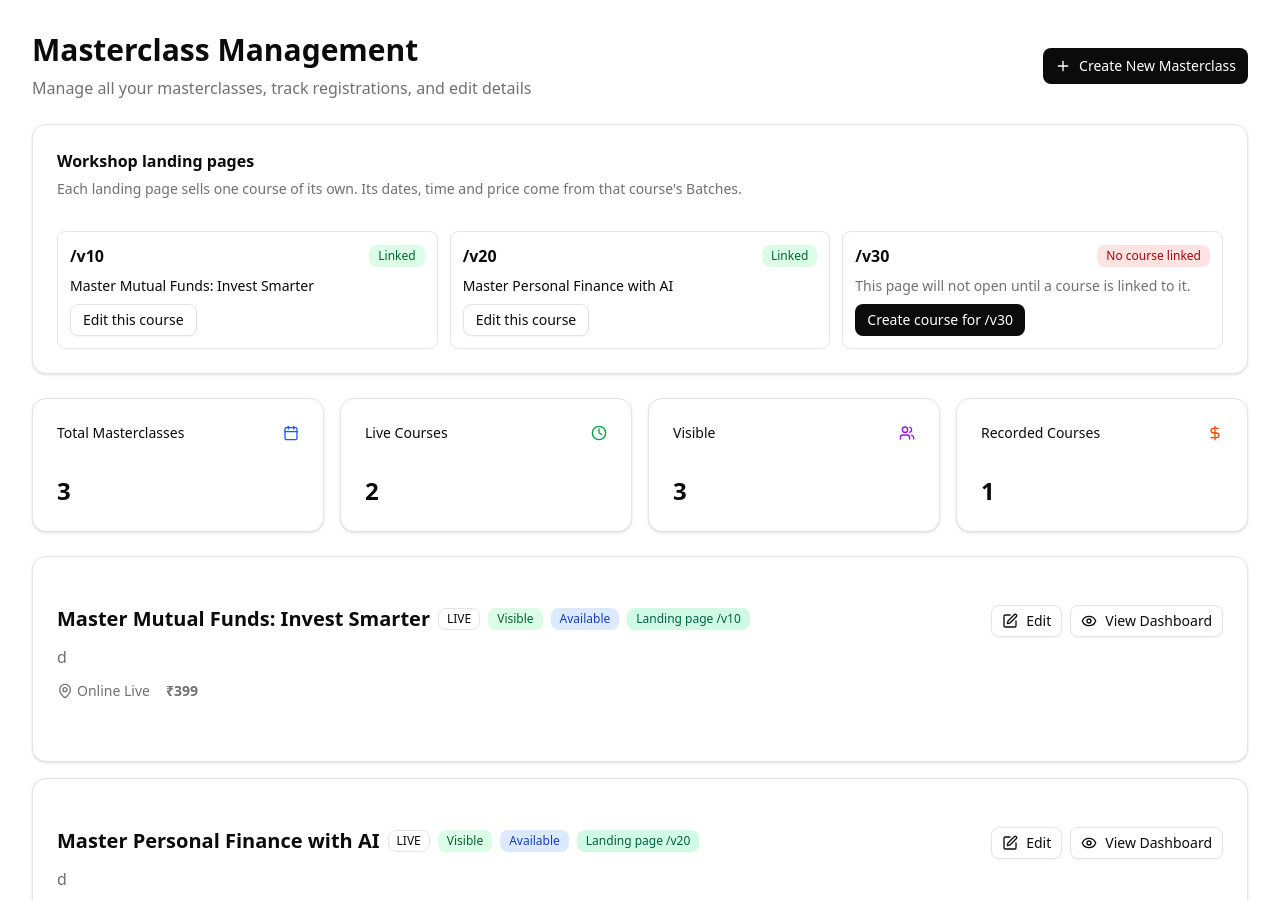
Masterclasses: workshop landing pages › 'Create course for /v30' opens the form with /v30 selected and saves the link
Later steps or results of the test are not shown.
What coordinates should you click on to do the following:
click the button "Create course for /v30"
I would click on:
 (940, 320)
Its box is [855,304,1025,336].
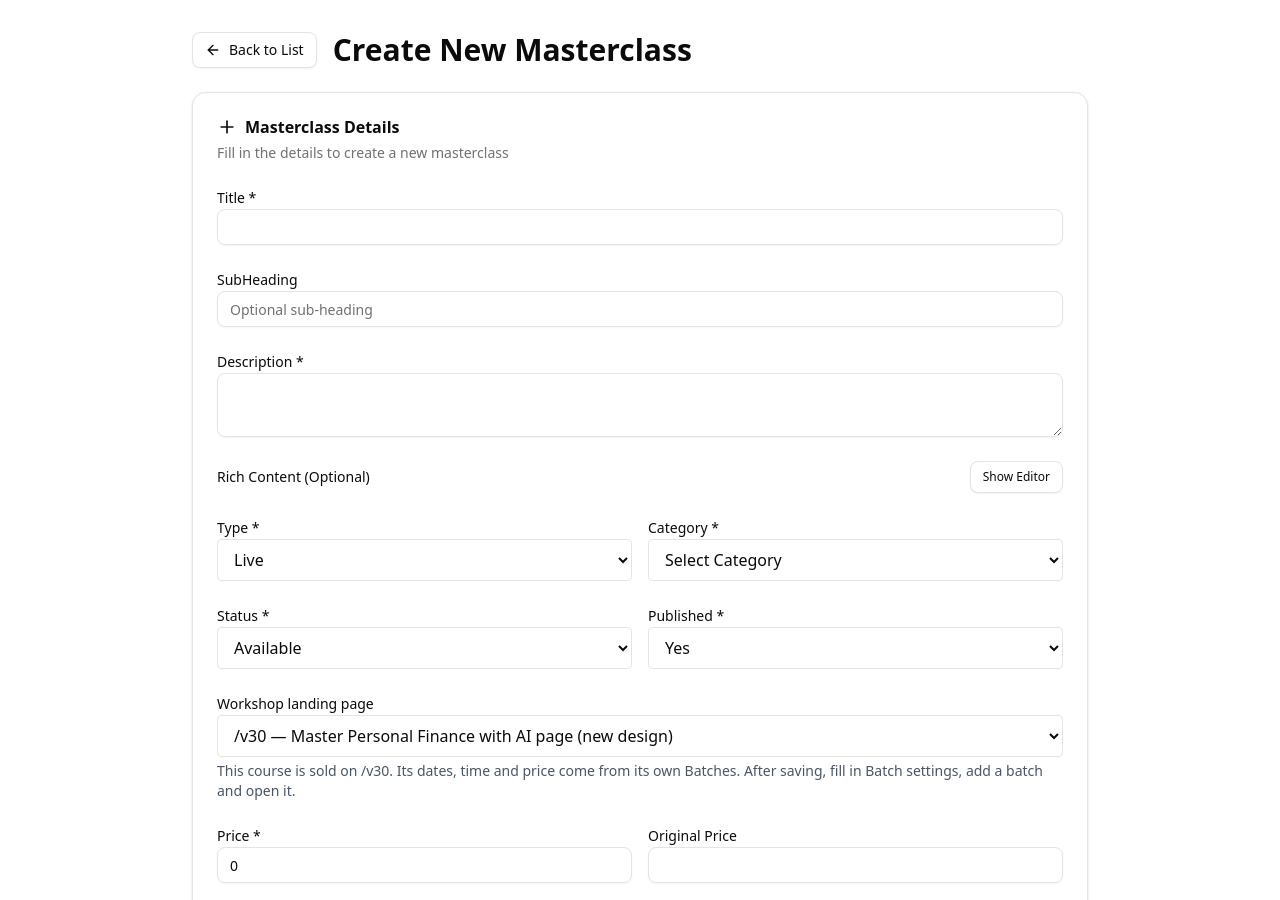
Result: the dropdown with test id "landing-page-select" shows "/v30 — Master Personal Finance with AI page (new design)" at [217,715,1063,757]
